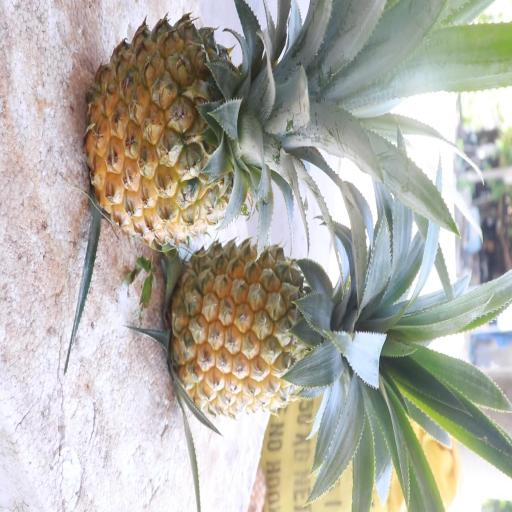Pineapple - v8 v1: (80, 8, 326, 252), (164, 233, 396, 427)
